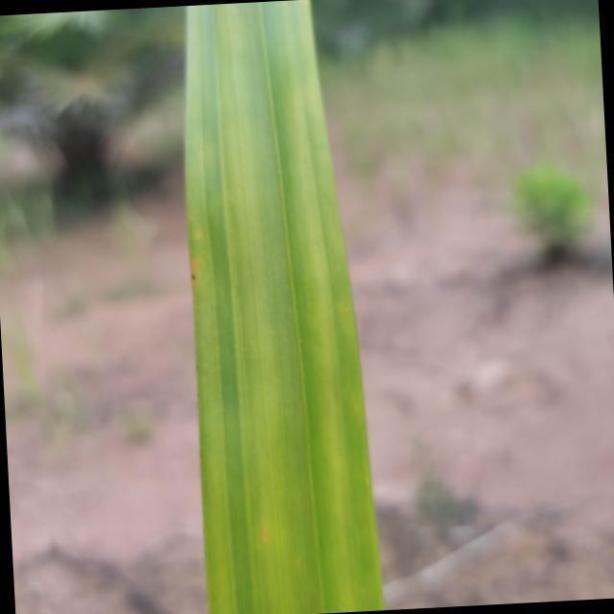nitrogen: (184, 0, 376, 614)
